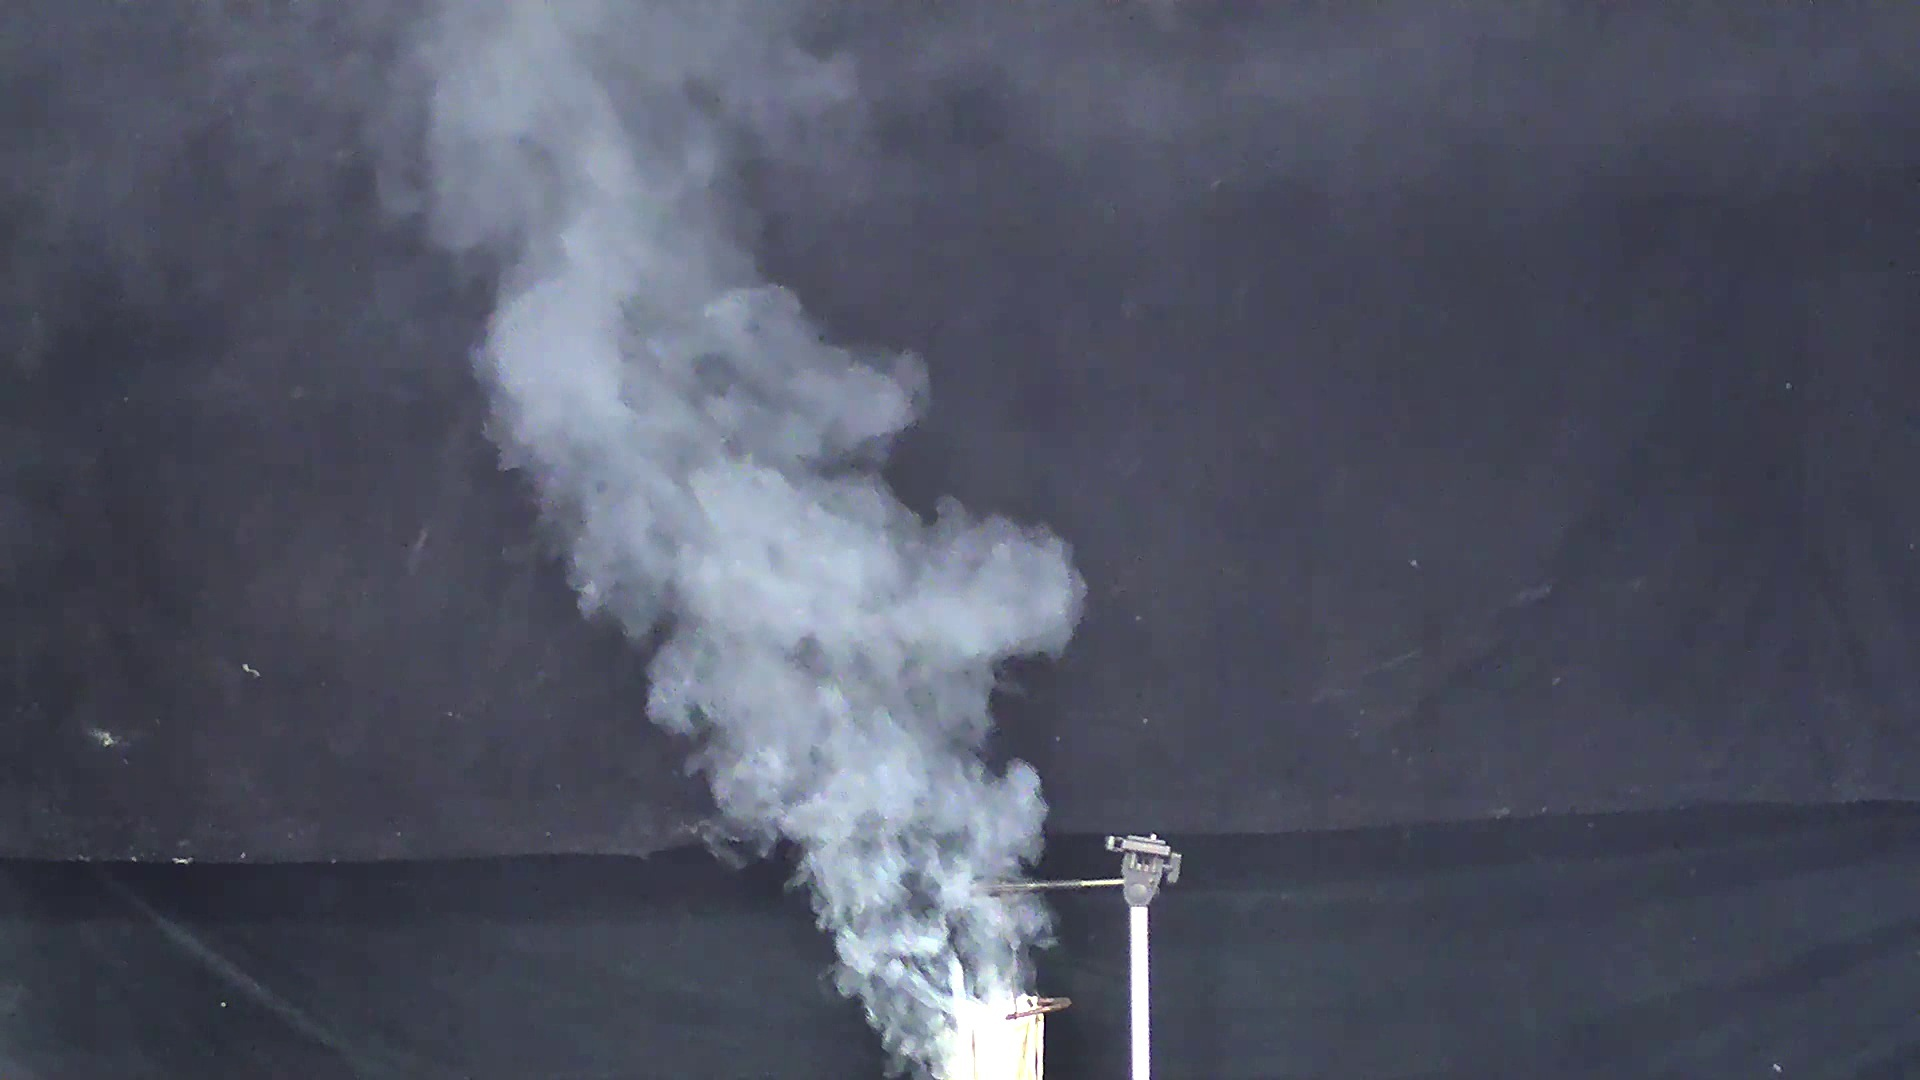smoke: (465, 232, 1112, 1022)
